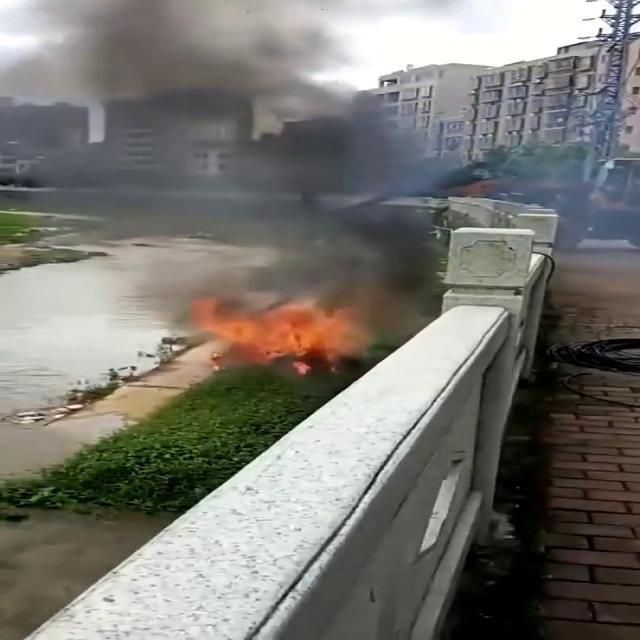Fire: (198, 304, 378, 364)
Smoke: (0, 0, 433, 308)
